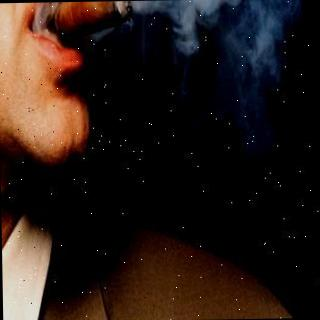smoke: (111, 0, 285, 83)
